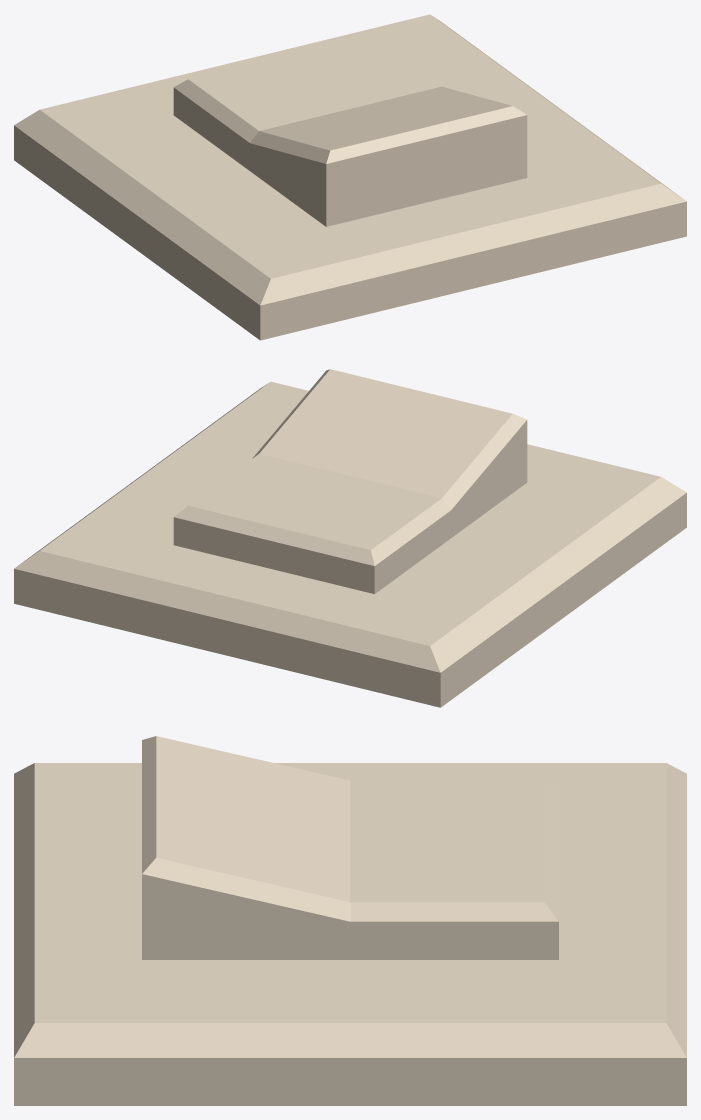
Rendered from lampButton.fbx.
3 renders of one model, top to bottom at view 1: azimuth 30°, elevation 25°; view 2: azimuth 150°, elevation 25°; view 3: azimuth 270°, elevation 25°, orthographic. The views are drawn at different scales.
Parts seen in each view (by area): view 1: Cube.001; view 2: Cube.001; view 3: Cube.001.
Boxes of the visible parts, <box> form: Cube.001: <box>14,14,686,340</box>; Cube.001: <box>14,369,686,707</box>; Cube.001: <box>14,736,686,1105</box>.
Bounding box in the file's own units: 55.3 × 15.13 × 55.3.
